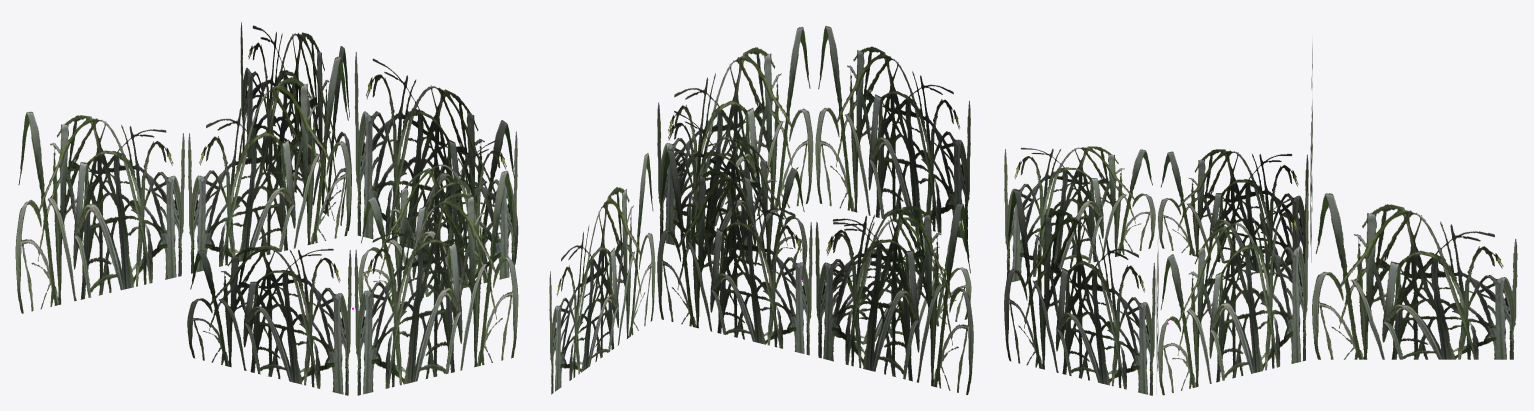
Rendered from mveg5a.glb.
3 views of the same model, side by side, from view 1: azimuth 30°, elevation 25°; view 2: azimuth 150°, elevation 25°; view 3: azimuth 270°, elevation 25° (orthographic). The views are drawn at different scales.
Visible parts, largest first — view 1: 01 Mesh0; view 2: 01 Mesh0; view 3: 01 Mesh0.
Boxes of the visible parts, bbox=[...] form: 01 Mesh0: bbox=[15, 22, 518, 395]; 01 Mesh0: bbox=[549, 26, 973, 394]; 01 Mesh0: bbox=[1004, 45, 1517, 395].
Size of the model in its own units: 4.74 by 2.26 by 5.47.
2 materials, 1 textured.
